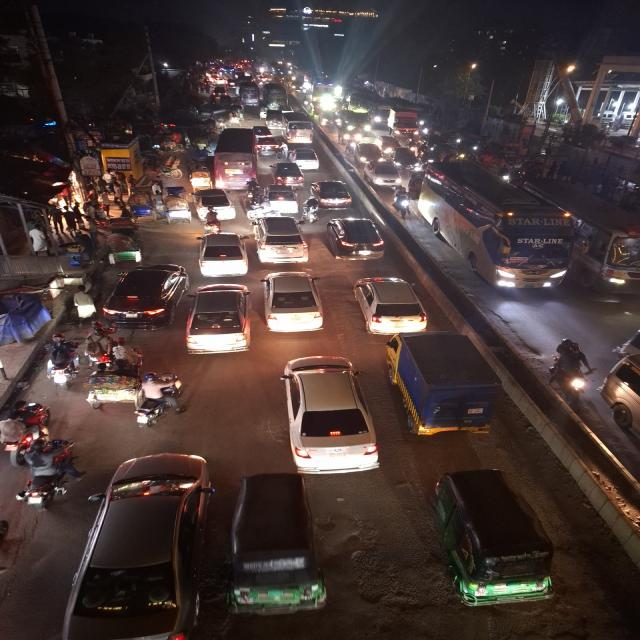bicycle: (274, 142, 292, 160)
bus: (426, 164, 566, 294), (547, 184, 640, 302), (215, 126, 257, 191), (282, 112, 315, 143), (356, 96, 388, 127), (264, 83, 285, 110), (238, 83, 259, 108)
car: (71, 450, 211, 640), (267, 354, 377, 474), (110, 251, 191, 340), (183, 280, 255, 367), (248, 264, 326, 341), (348, 268, 426, 334), (188, 232, 255, 290), (316, 215, 390, 257), (247, 219, 304, 265), (308, 179, 354, 209), (363, 160, 405, 190), (191, 191, 237, 218), (270, 161, 304, 186), (352, 144, 387, 167), (391, 146, 417, 173), (291, 146, 321, 169), (260, 138, 278, 156)
cng: (413, 468, 575, 611), (222, 466, 327, 620)
motorcycle: (24, 441, 84, 510), (0, 394, 52, 470), (546, 337, 591, 408), (135, 372, 183, 429), (41, 336, 82, 394), (84, 322, 109, 368), (390, 186, 416, 220), (247, 200, 284, 223), (198, 210, 224, 237), (303, 194, 319, 225), (242, 179, 260, 204)
pedestrian: (65, 289, 101, 330)
pickup_van: (338, 110, 368, 132)
rickshaw: (81, 368, 139, 417), (103, 223, 147, 264), (158, 188, 196, 228), (122, 192, 160, 222), (153, 155, 185, 182), (189, 165, 213, 192), (227, 110, 242, 127)
truck: (383, 334, 516, 439), (389, 108, 421, 142)
